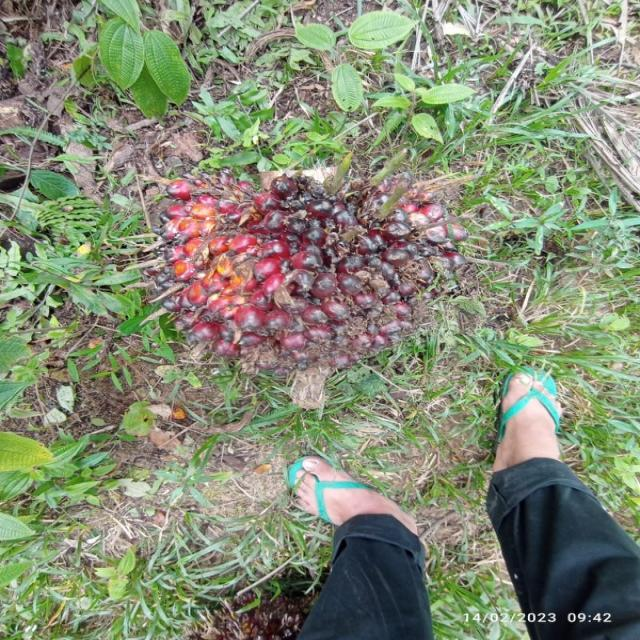fraksi 1: (109, 136, 520, 400)
